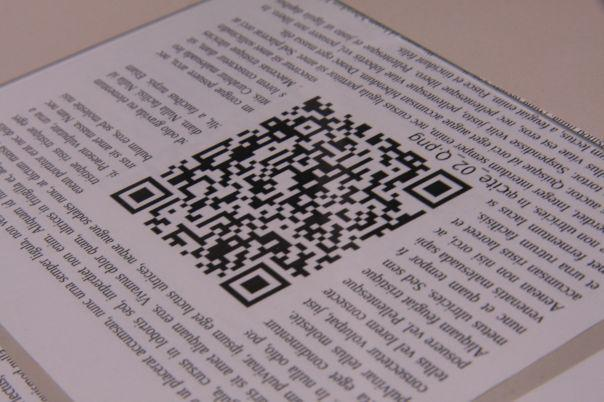Finder pattern: (218, 261, 292, 311), (403, 169, 472, 209), (114, 175, 172, 216)
